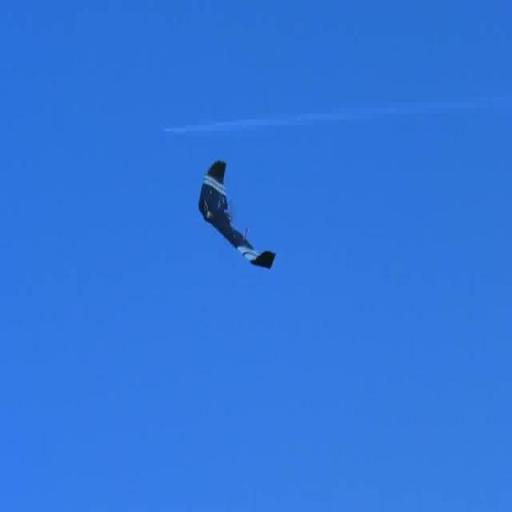uav: (197, 156, 278, 278)
